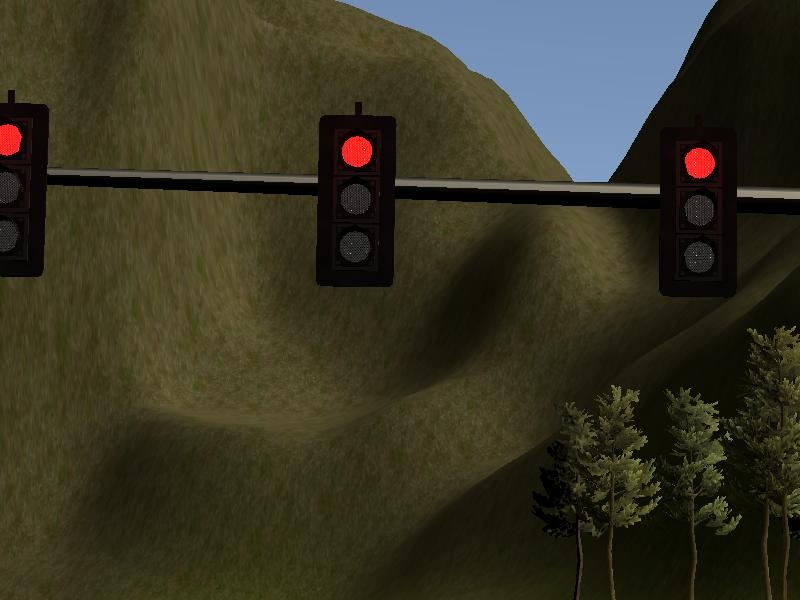red: (314, 106, 400, 298), (655, 124, 743, 303), (1, 101, 54, 281)
